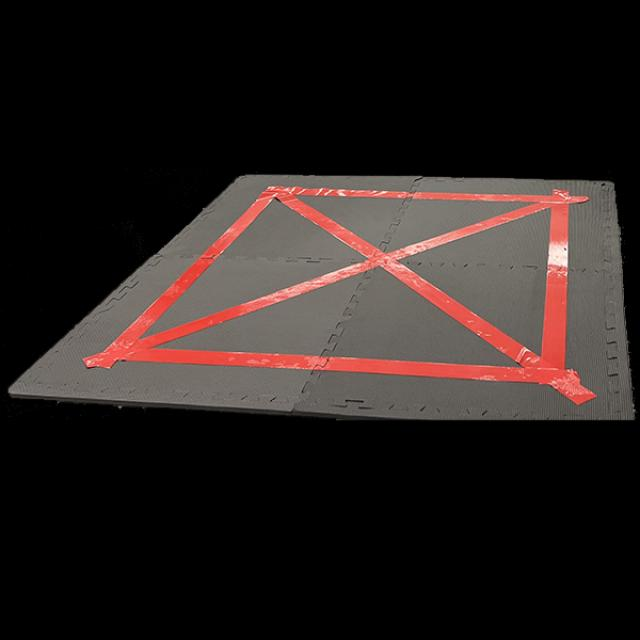landingPads: (10, 170, 640, 421)
